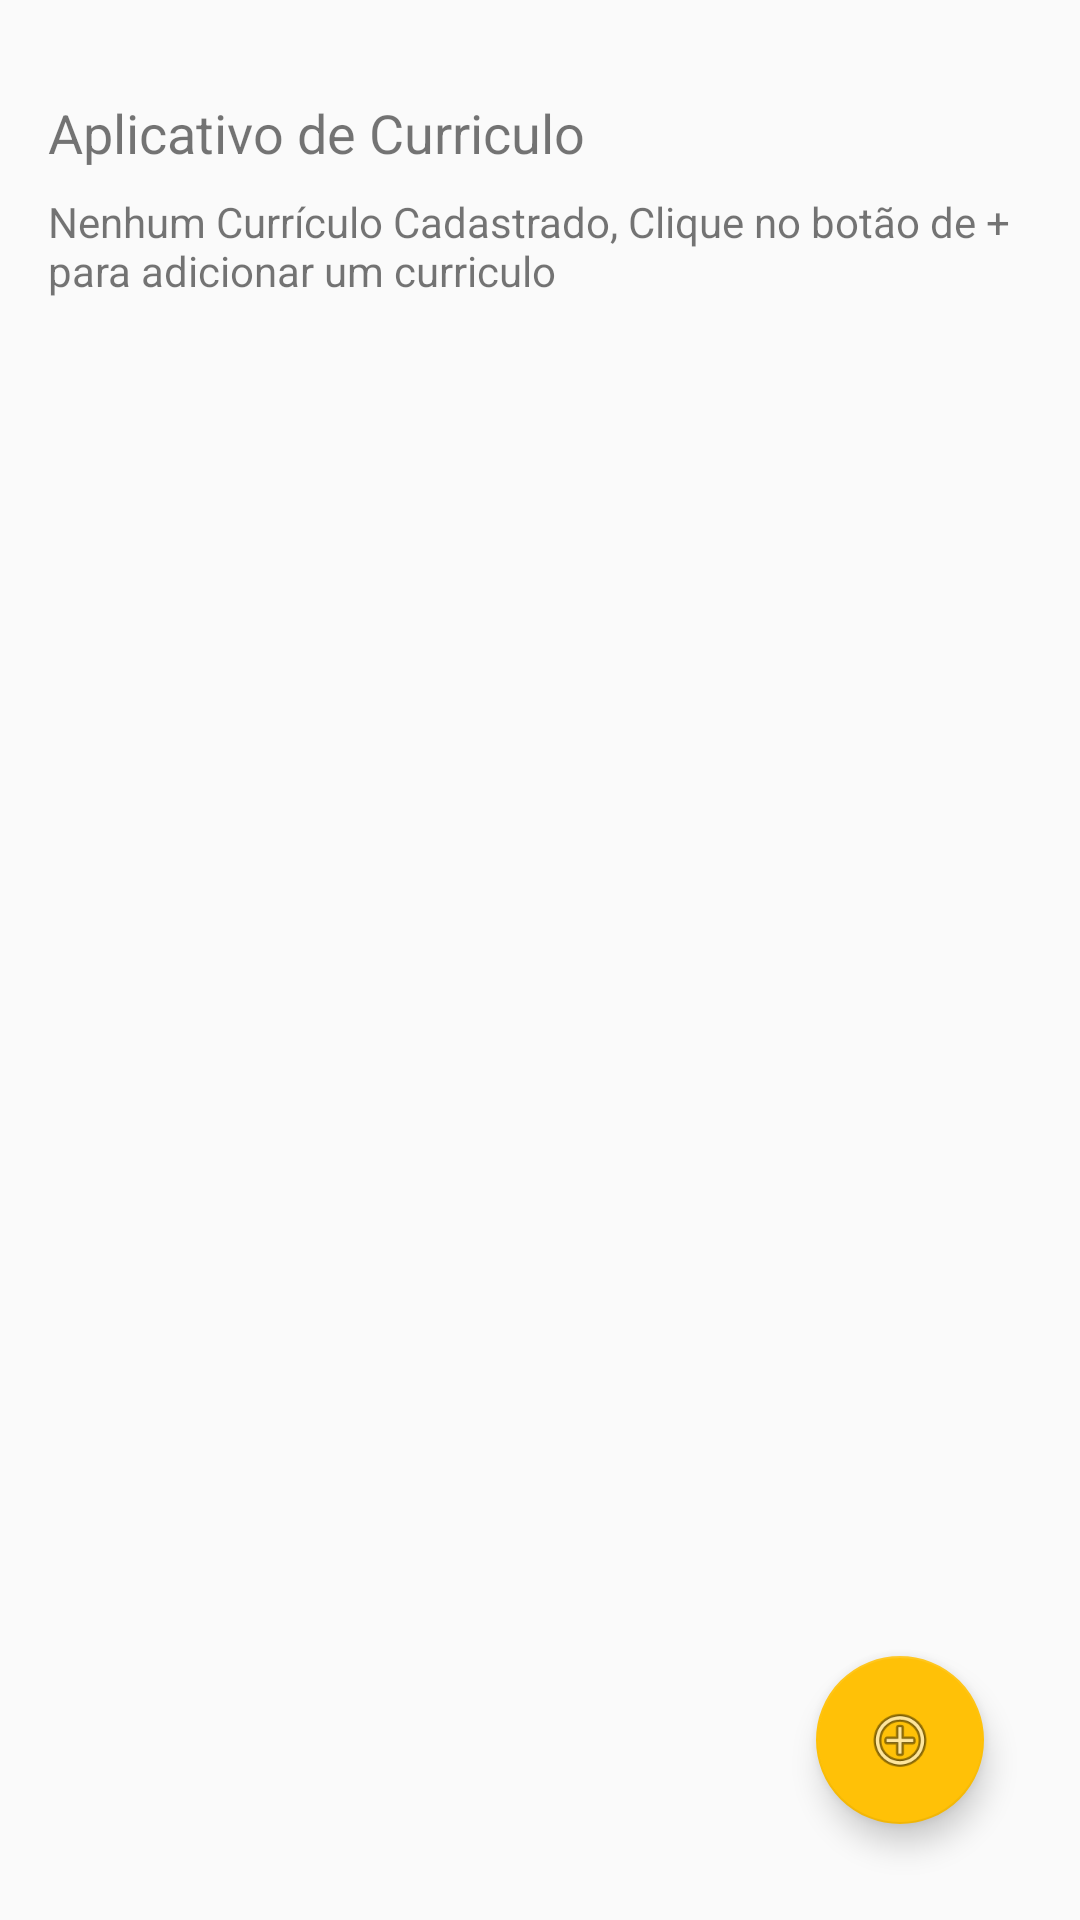

Icons on this 1080px x 1920px Android screen, each with its box as bbox=(x1, y1, x2, y2):
add: bbox=(816, 1656, 984, 1824)
